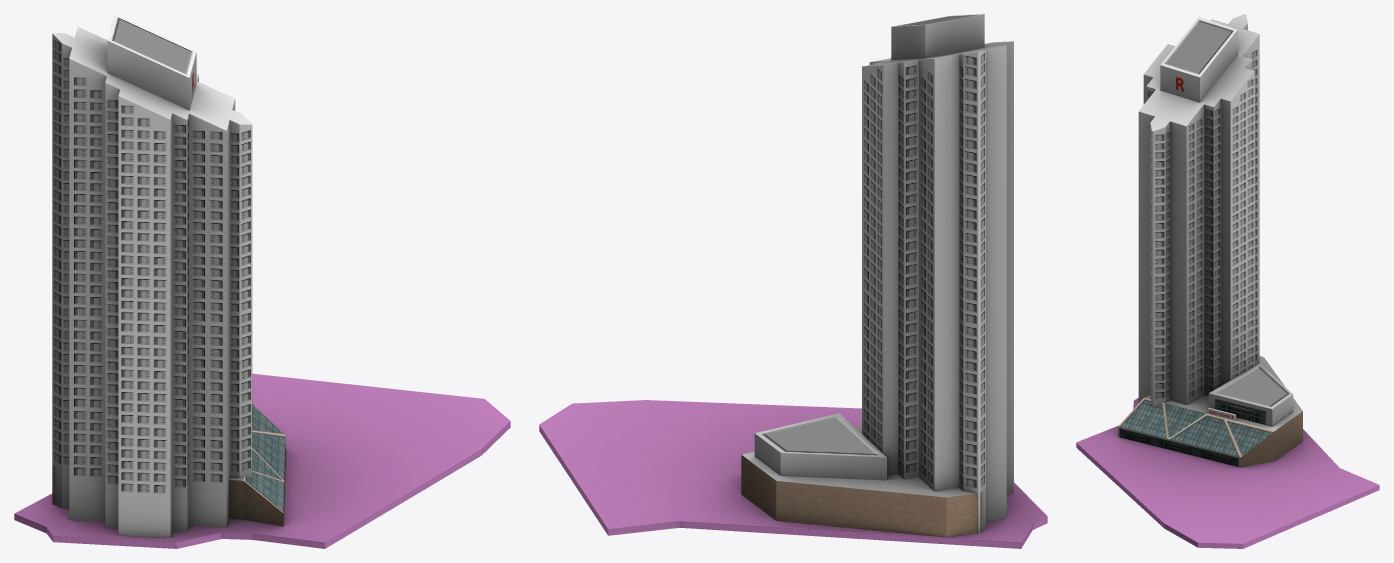
The model's file is yzjwl.gltf.
3 views of the same model, side by side, from view 1: azimuth 30°, elevation 25°; view 2: azimuth 150°, elevation 25°; view 3: azimuth 270°, elevation 25° (orthographic). The views are drawn at different scales.
Visible parts, largest first — view 1: pCube2, pCube1, pCube3; view 2: pCube2, pCube1, pCube3, pCube4; view 3: pCube2, pCube1, pCube3, pCube4.
Boxes of the visible parts, <box> form: pCube2: <box>52,14,252,537</box>; pCube1: <box>14,373,510,548</box>; pCube3: <box>52,404,285,526</box>; pCube2: <box>862,14,1013,533</box>; pCube1: <box>539,400,1047,548</box>; pCube3: <box>741,426,982,537</box>; pCube4: <box>754,413,886,480</box>; pCube2: <box>1138,14,1259,407</box>; pCube1: <box>1076,398,1379,548</box>; pCube3: <box>1118,356,1302,467</box>; pCube4: <box>1208,363,1293,426</box>.
Size of the model in its own units: 18.91 by 18.64 by 13.57.
Materials: 1 (1 with a texture image).
